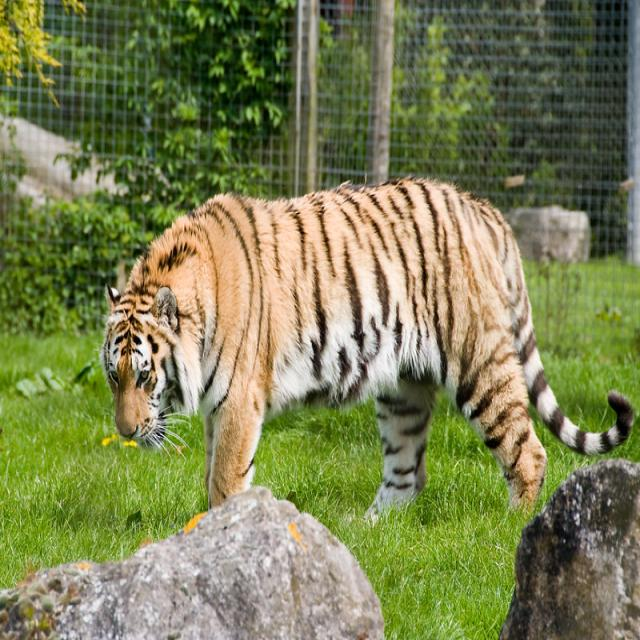Tiger: (98, 176, 632, 509)
